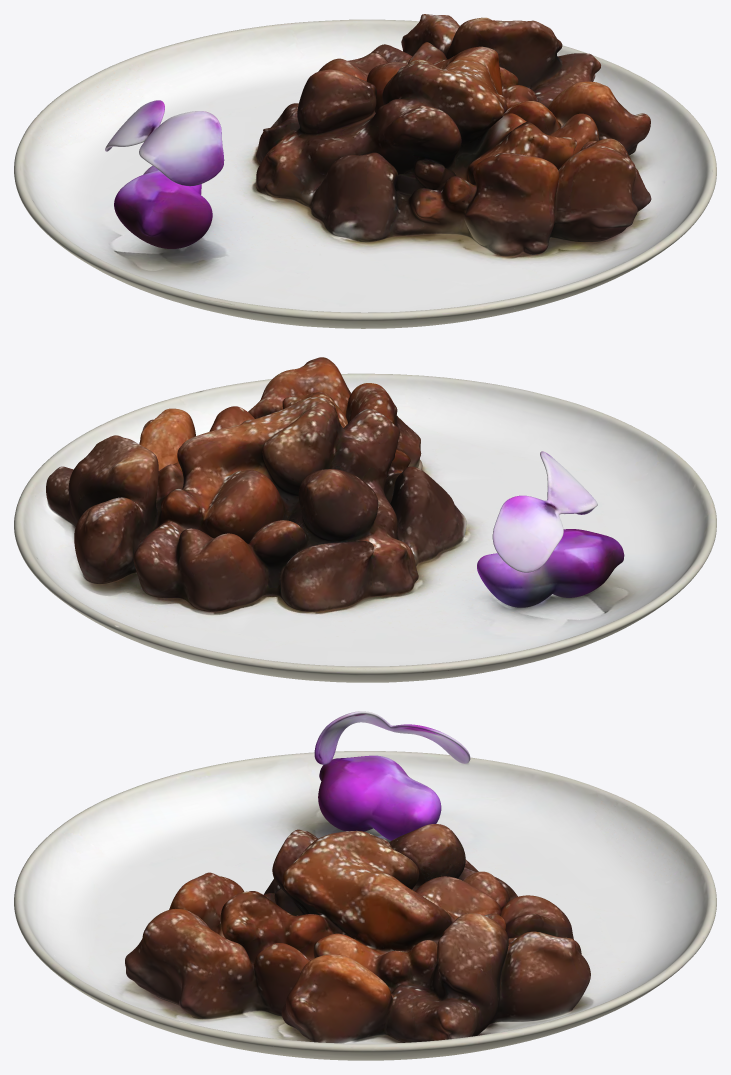
Rendered from Sweet and Sour Pork Ribs.glb.
3 renders of one model, top to bottom at view 1: azimuth 30°, elevation 25°; view 2: azimuth 150°, elevation 25°; view 3: azimuth 270°, elevation 25°, orthographic.
Parts seen in each view (by area): view 1: material; view 2: material; view 3: material.
Boxes of the visible parts, x1,y1,x2,y2 form: material: (14, 14, 716, 328); material: (14, 357, 716, 682); material: (14, 711, 716, 1060).
Bounding box in the file's own units: 1.19 × 0.2659 × 1.19.
Materials: 1 (1 with a texture image).
